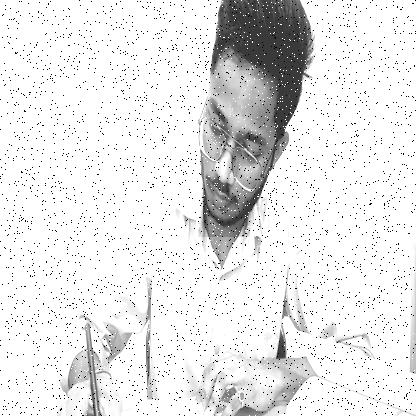Distracted: (197, 0, 313, 237)
